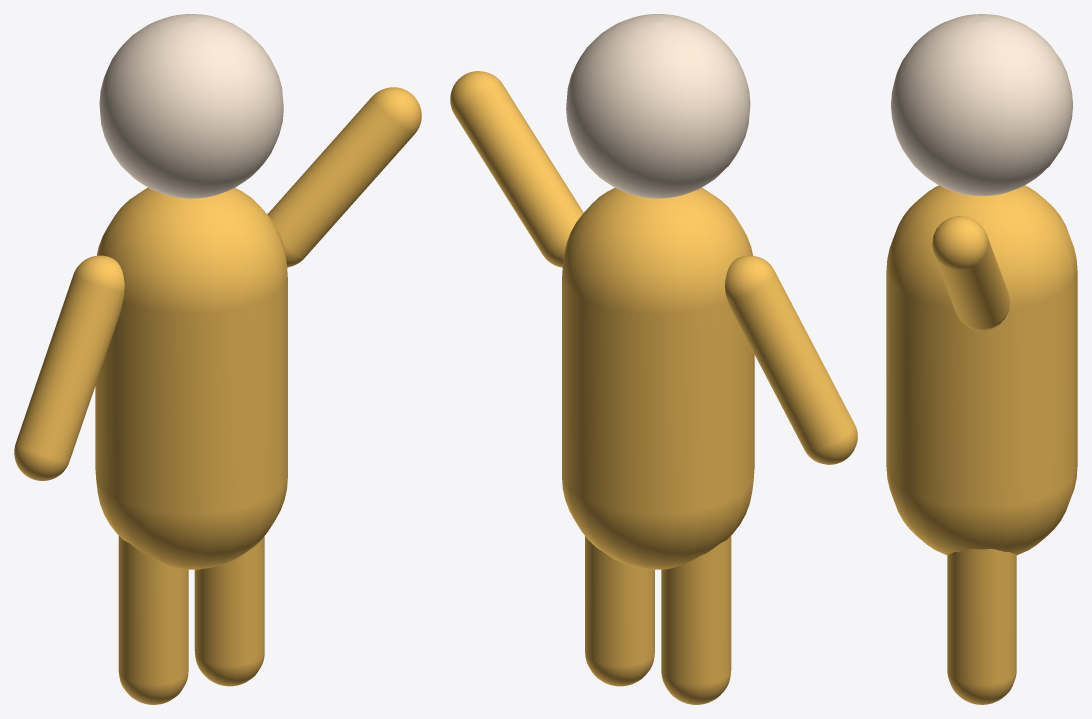
Rendered from sample.glb.
3 views of the same model, side by side, from view 1: azimuth 30°, elevation 25°; view 2: azimuth 150°, elevation 25°; view 3: azimuth 270°, elevation 25° (orthographic).
Visible parts, largest first — view 1: placeholder; view 2: placeholder; view 3: placeholder.
Part boxes in pixels (x1=…): placeholder: x1=14, y1=14, x2=421, y2=704; placeholder: x1=450, y1=14, x2=857, y2=704; placeholder: x1=886, y1=14, x2=1077, y2=704.
Bounding box in the file's own units: 1.05 × 1.68 × 0.44.
